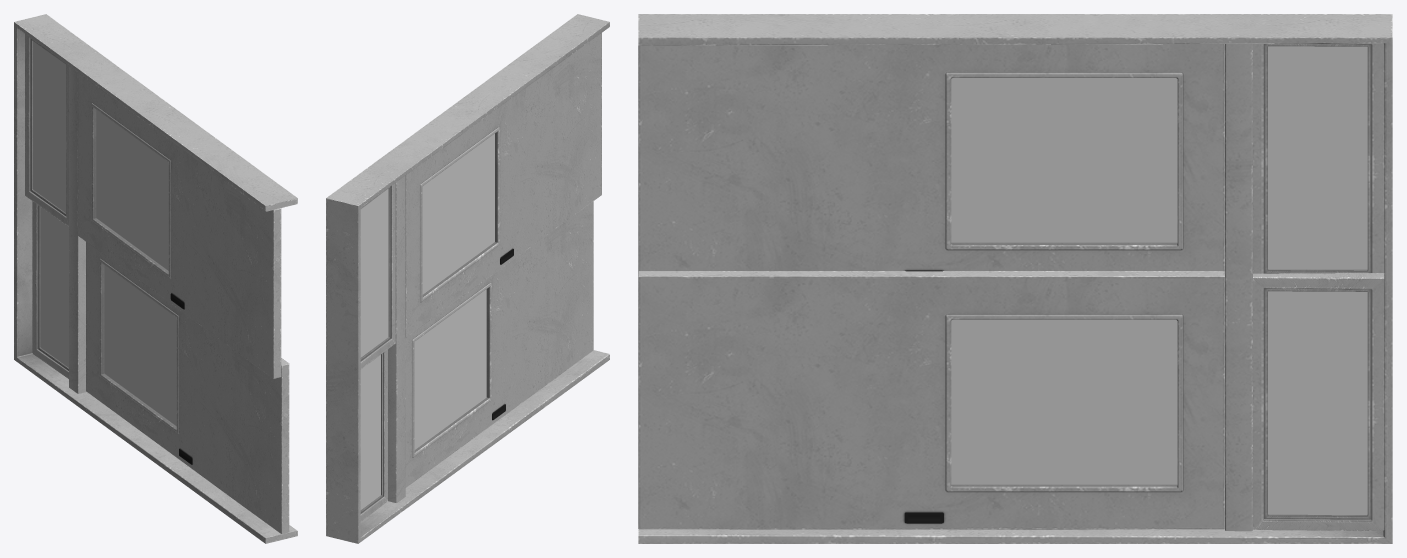
Rendered from Partition_Door.fbx.
3 renders of one model, left to right at view 1: azimuth 30°, elevation 25°; view 2: azimuth 150°, elevation 25°; view 3: azimuth 270°, elevation 25°, orthographic. The views are drawn at different scales.
Visible parts, largest first — view 1: SM_Partition_01_LOD0; view 2: SM_Partition_01_LOD0; view 3: SM_Partition_01_LOD0.
Boxes of the visible parts, box(x1,y1,x2,y2) form: SM_Partition_01_LOD0: box(14, 14, 297, 543); SM_Partition_01_LOD0: box(326, 14, 609, 543); SM_Partition_01_LOD0: box(638, 14, 1392, 543).
Size of the model in its own units: 0.2 by 2 by 2.7.
